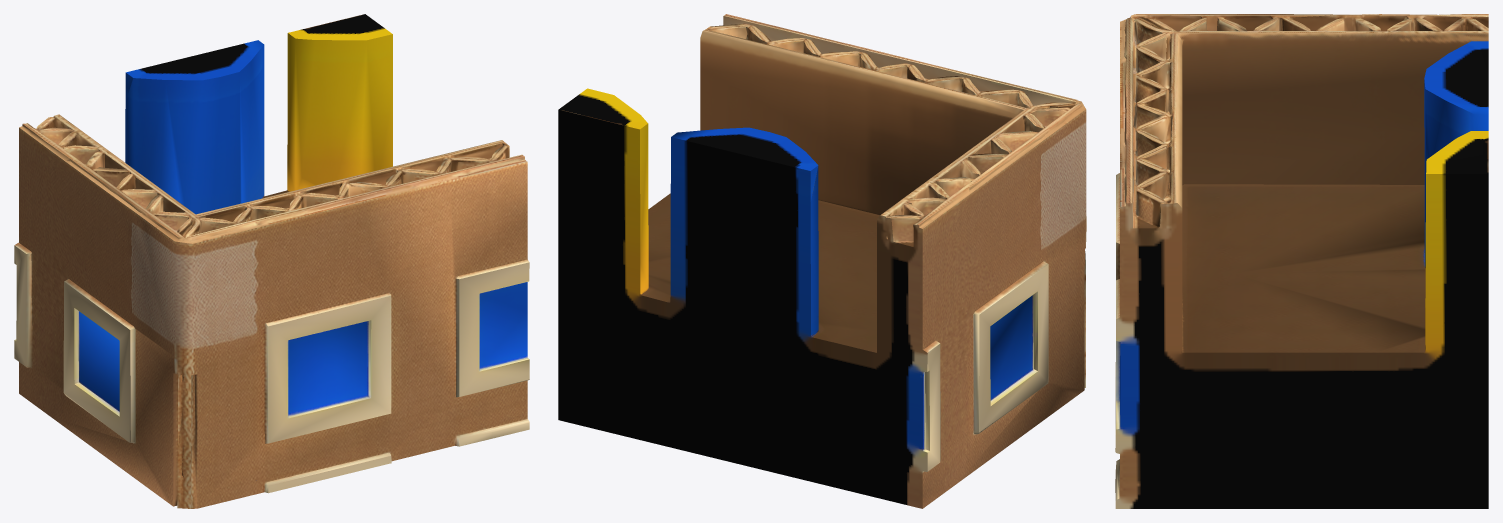
File: 5-upper-walls-front-left.fbx
3 views of the same model, side by side, from view 1: azimuth 30°, elevation 25°; view 2: azimuth 150°, elevation 25°; view 3: azimuth 270°, elevation 25° (orthographic). The views are drawn at different scales.
Parts seen in each view (by area): view 1: upper-walls-front-left; view 2: upper-walls-front-left; view 3: upper-walls-front-left.
Boxes of the visible parts, left/top/right/bottom form: upper-walls-front-left: left=14, top=14, right=529, bottom=508; upper-walls-front-left: left=558, top=14, right=1086, bottom=508; upper-walls-front-left: left=1115, top=14, right=1488, bottom=508.
Bounding box in the file's own units: 5064 × 4070 × 4109.
1 material, 1 textured.
